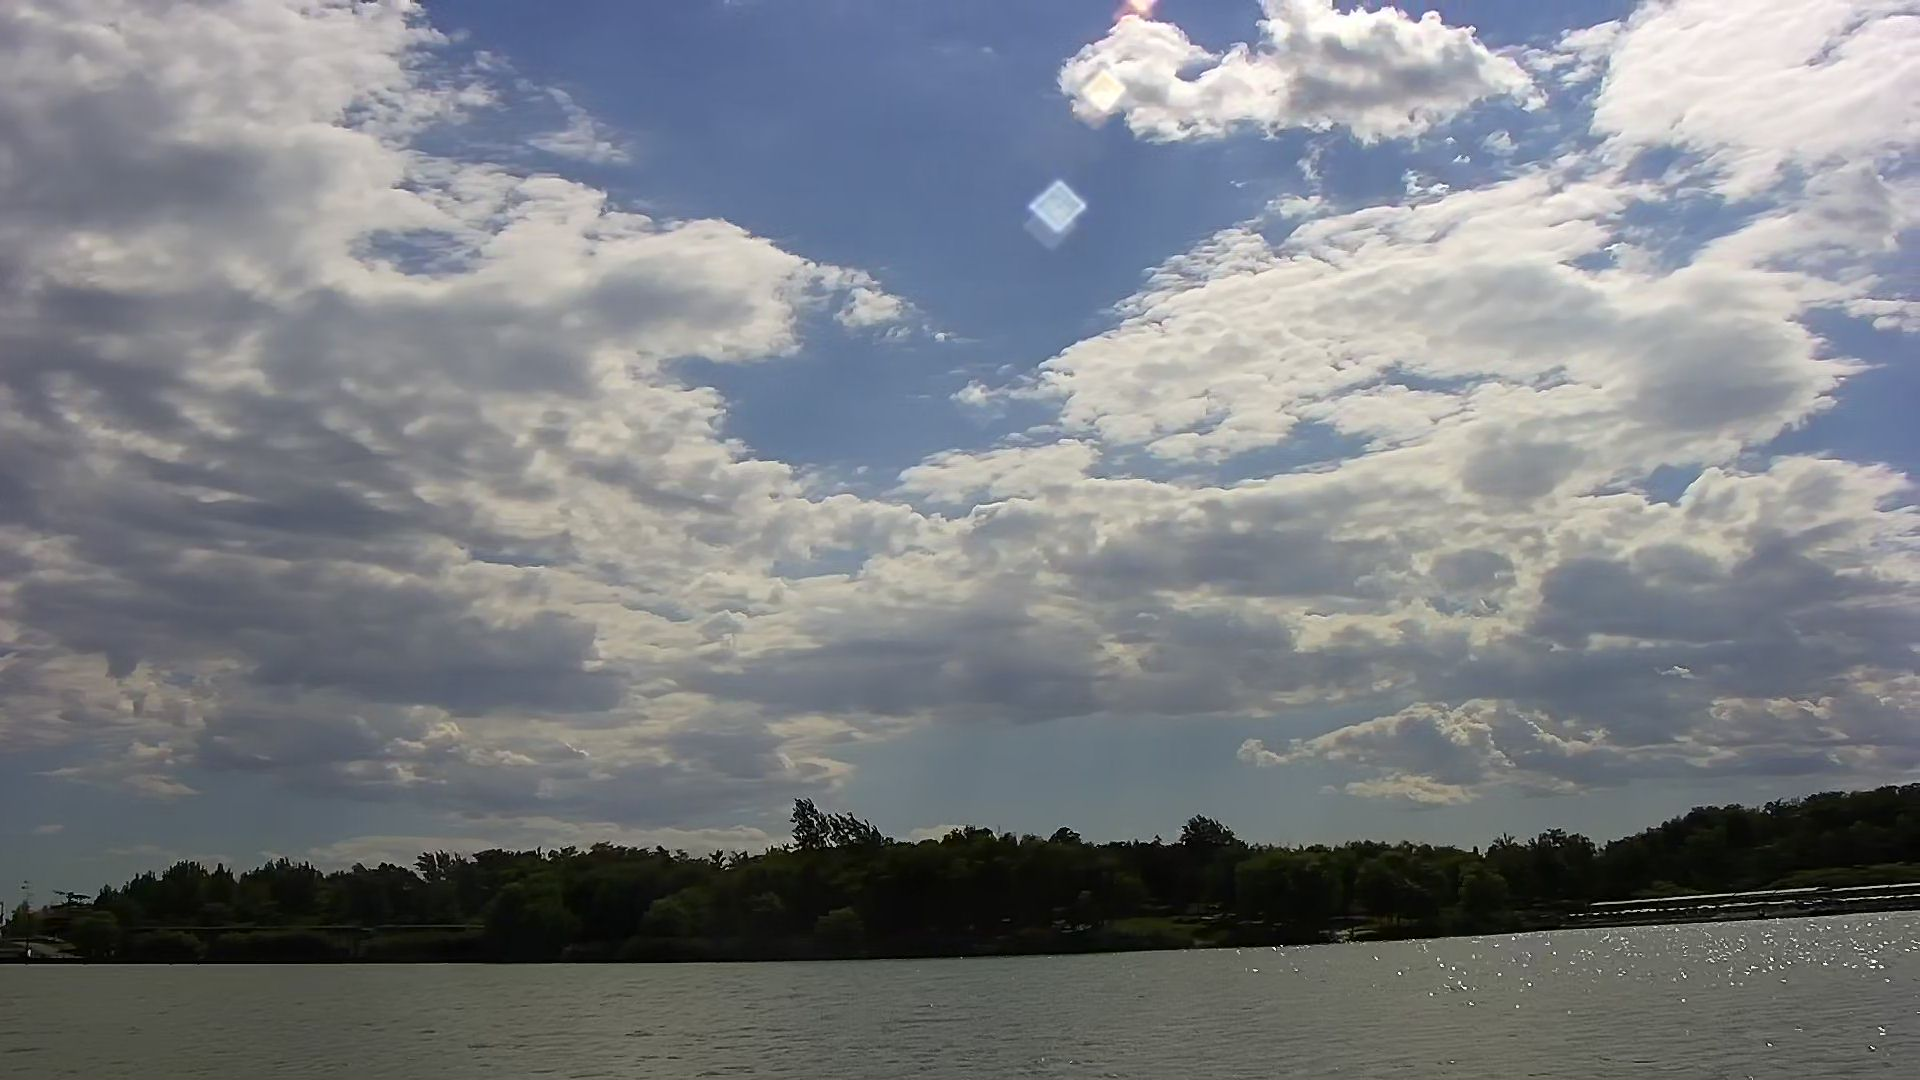harbor: (1553, 872, 1920, 928)
